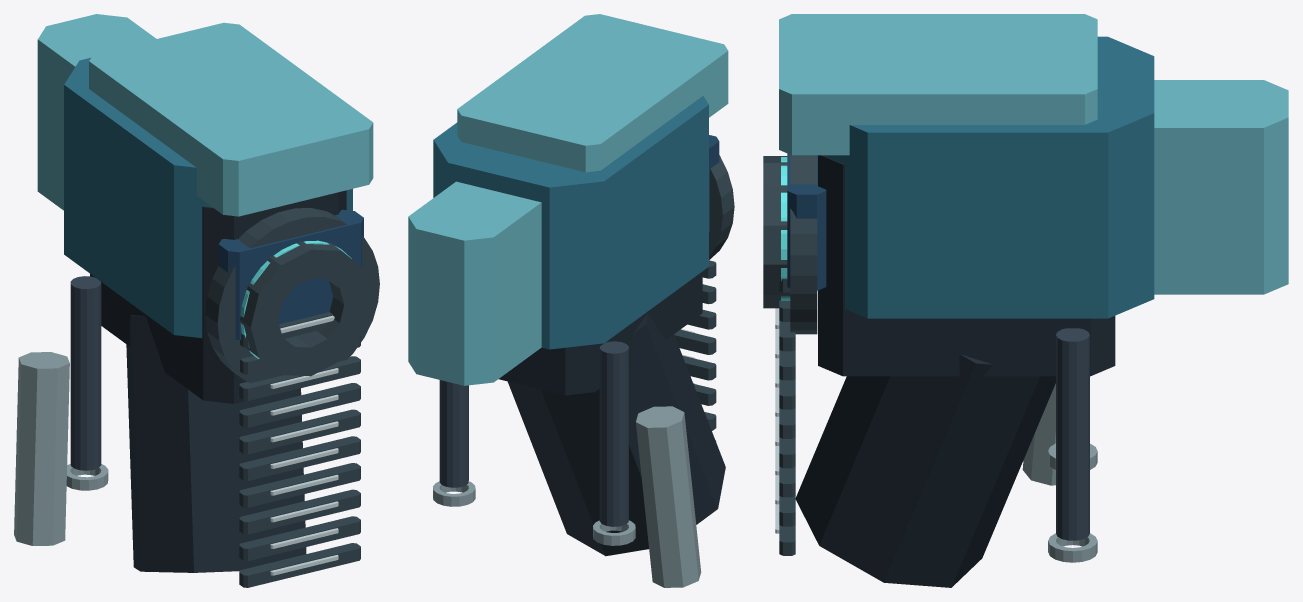
Rendered from enemy_marksman_4k_upper_arm_l.obj.
The picture shows the model from 3 angles, left to right: view 1: azimuth 30°, elevation 25°; view 2: azimuth 150°, elevation 25°; view 3: azimuth 270°, elevation 25°; orthographic projection. The views are drawn at different scales.
Bounding box in the file's own units: 0.4759 × 0.8144 × 0.7425.
